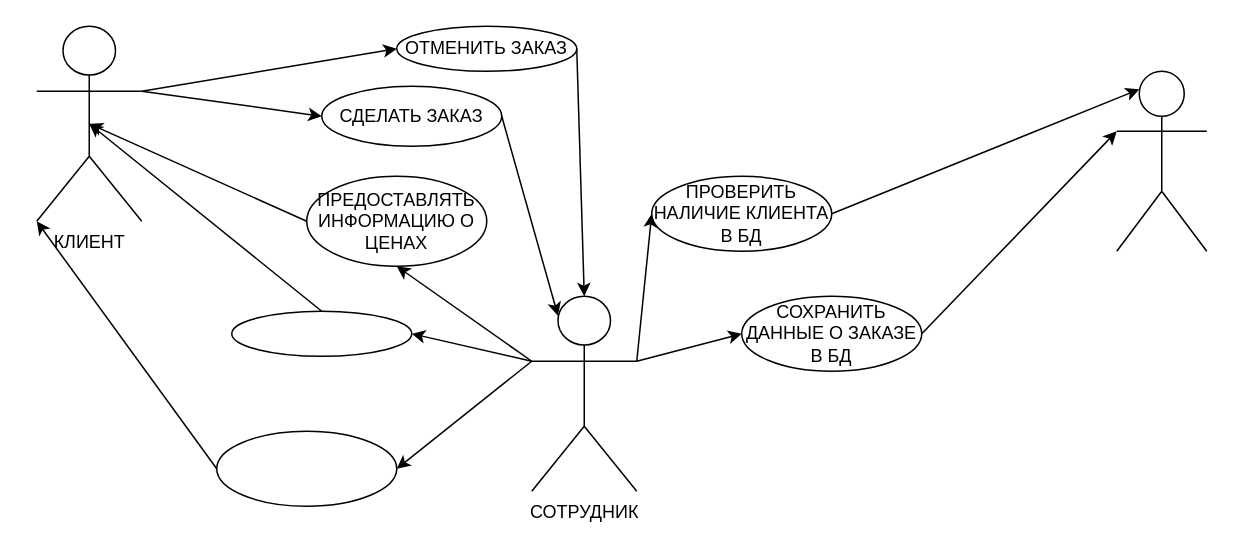
The diagram is 1253 pixels wide and 549 high, and some of its shapes have lost their labels. Here are the shapes that lost their labels. From the top down, the centre of each, then its label:
At (1161,160): "БАЗА ДАННЫХ".
At (321,333): "ОФОРМИТЬ ЗАКАЗ".
At (306,468): "ОТВЕЧАТЬ НА ТЕЛЕФОННЫЕ ЗВОНКИ".
